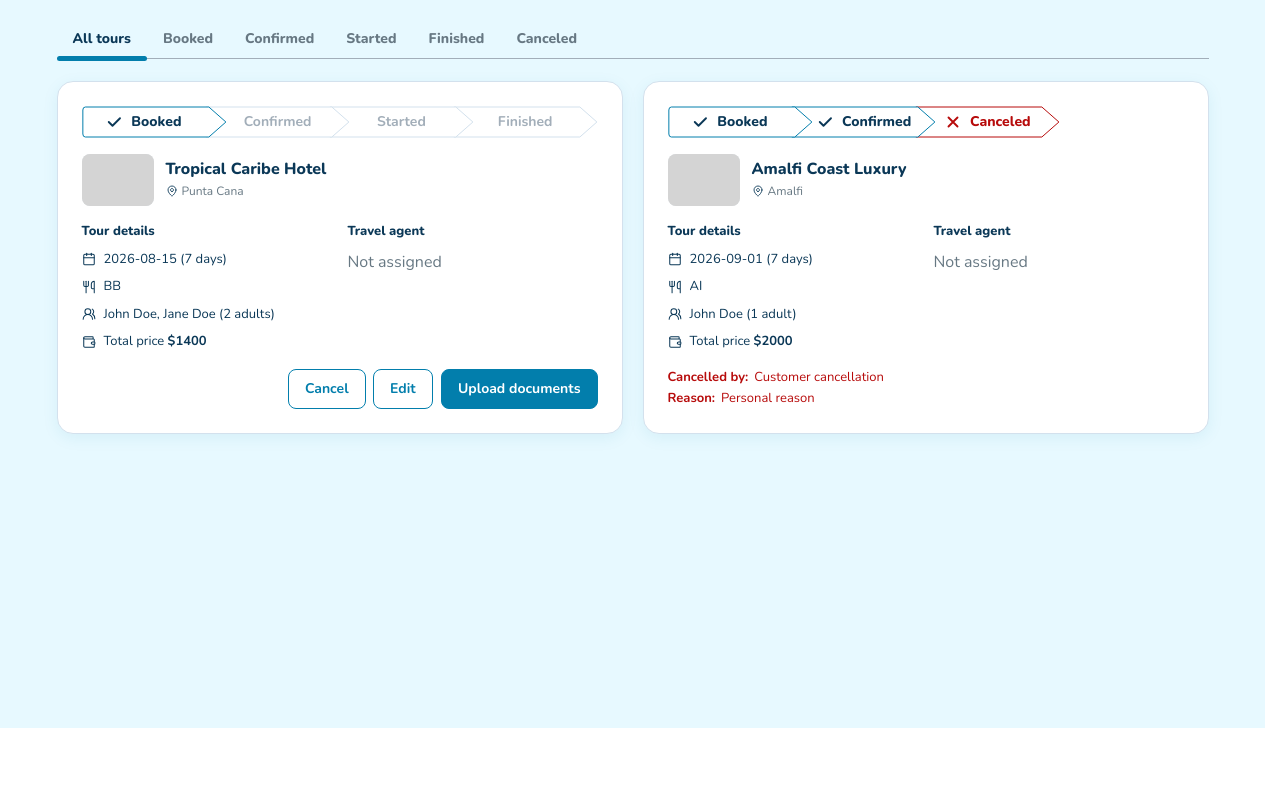
Test case: MyToursPage Component › shows the cancellation penalty returned by the API
Click the button "Cancel".
click(326, 388)  # box [288,368,365,408]
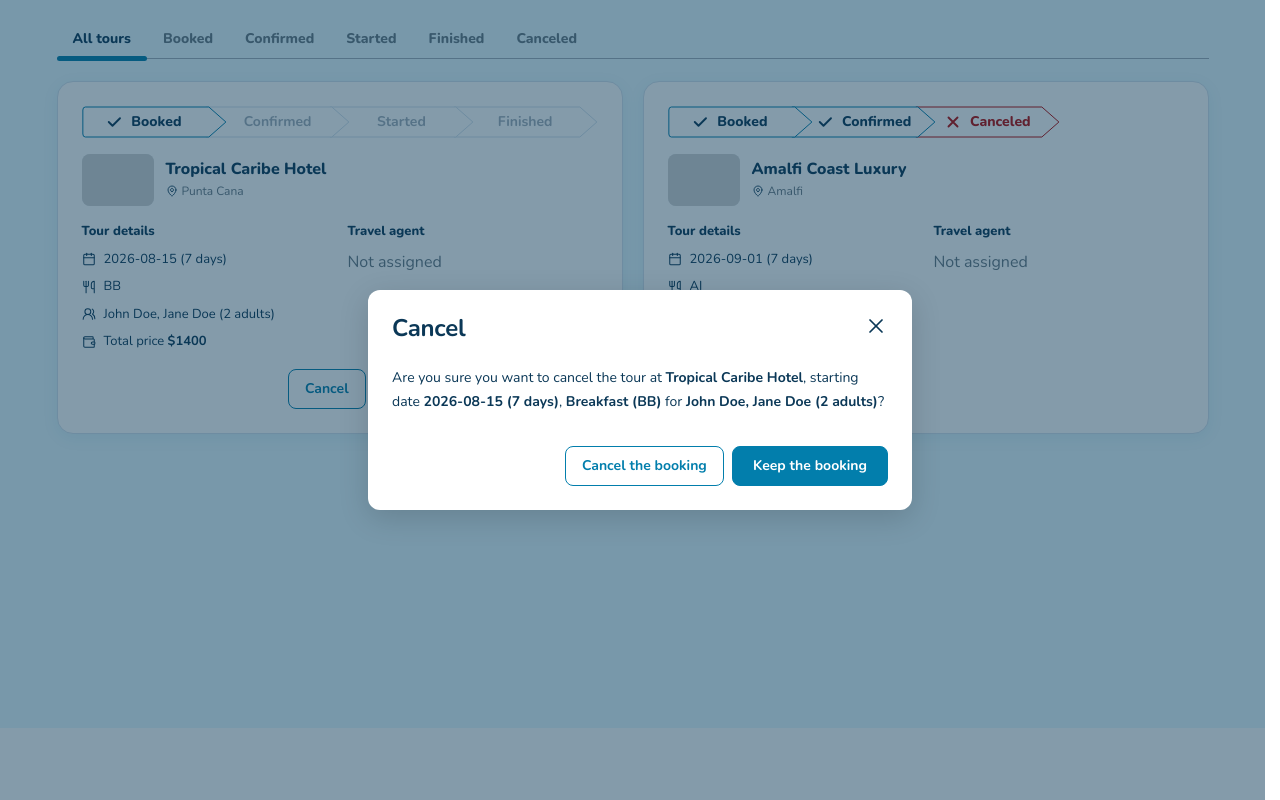
Click the button with test id "confirm-cancel-button".
click(645, 466)  # box [565,446,724,486]
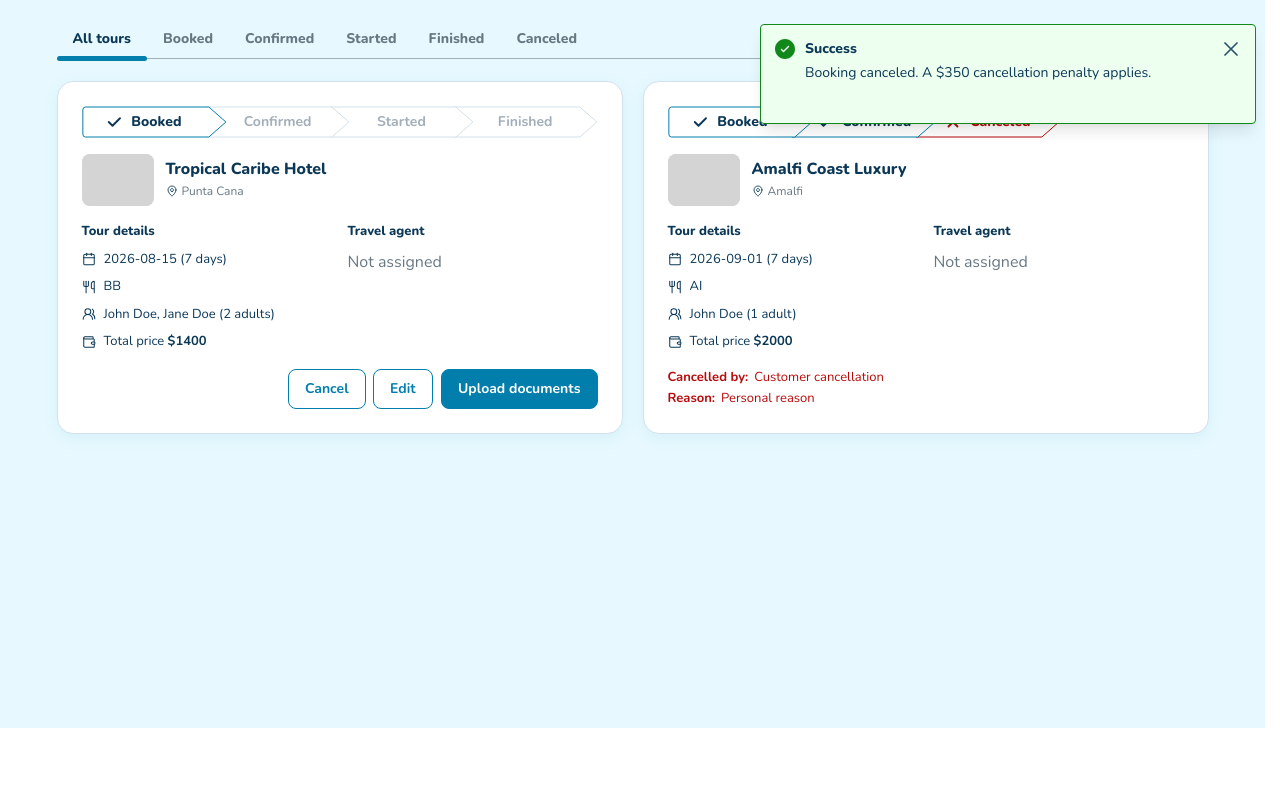
Expected: the text "Booking canceled. A $350 cancellation penalty applies." is shown, [805,61,1151,85]
